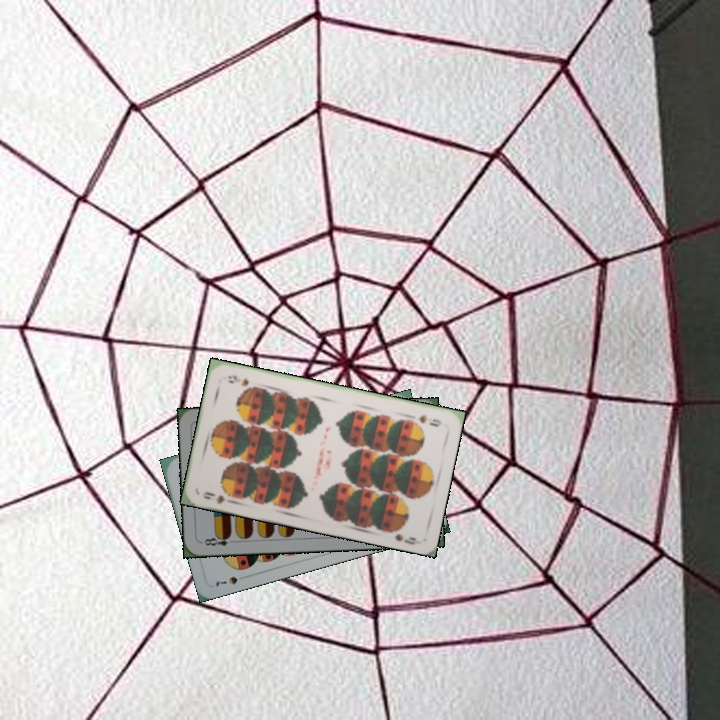E8: (200, 531, 239, 548)
S7: (211, 572, 240, 589)
S9: (199, 487, 237, 506), (414, 411, 444, 429)
